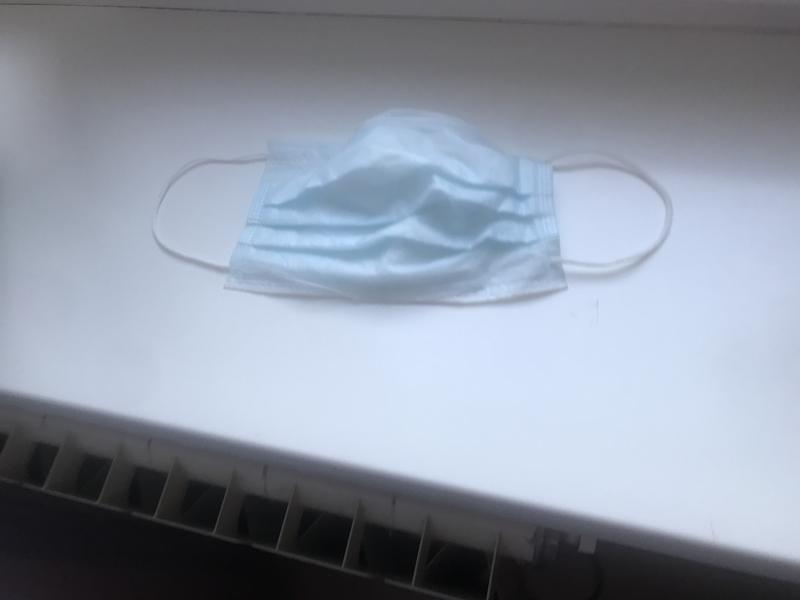medical_mask: (153, 127, 673, 303)
